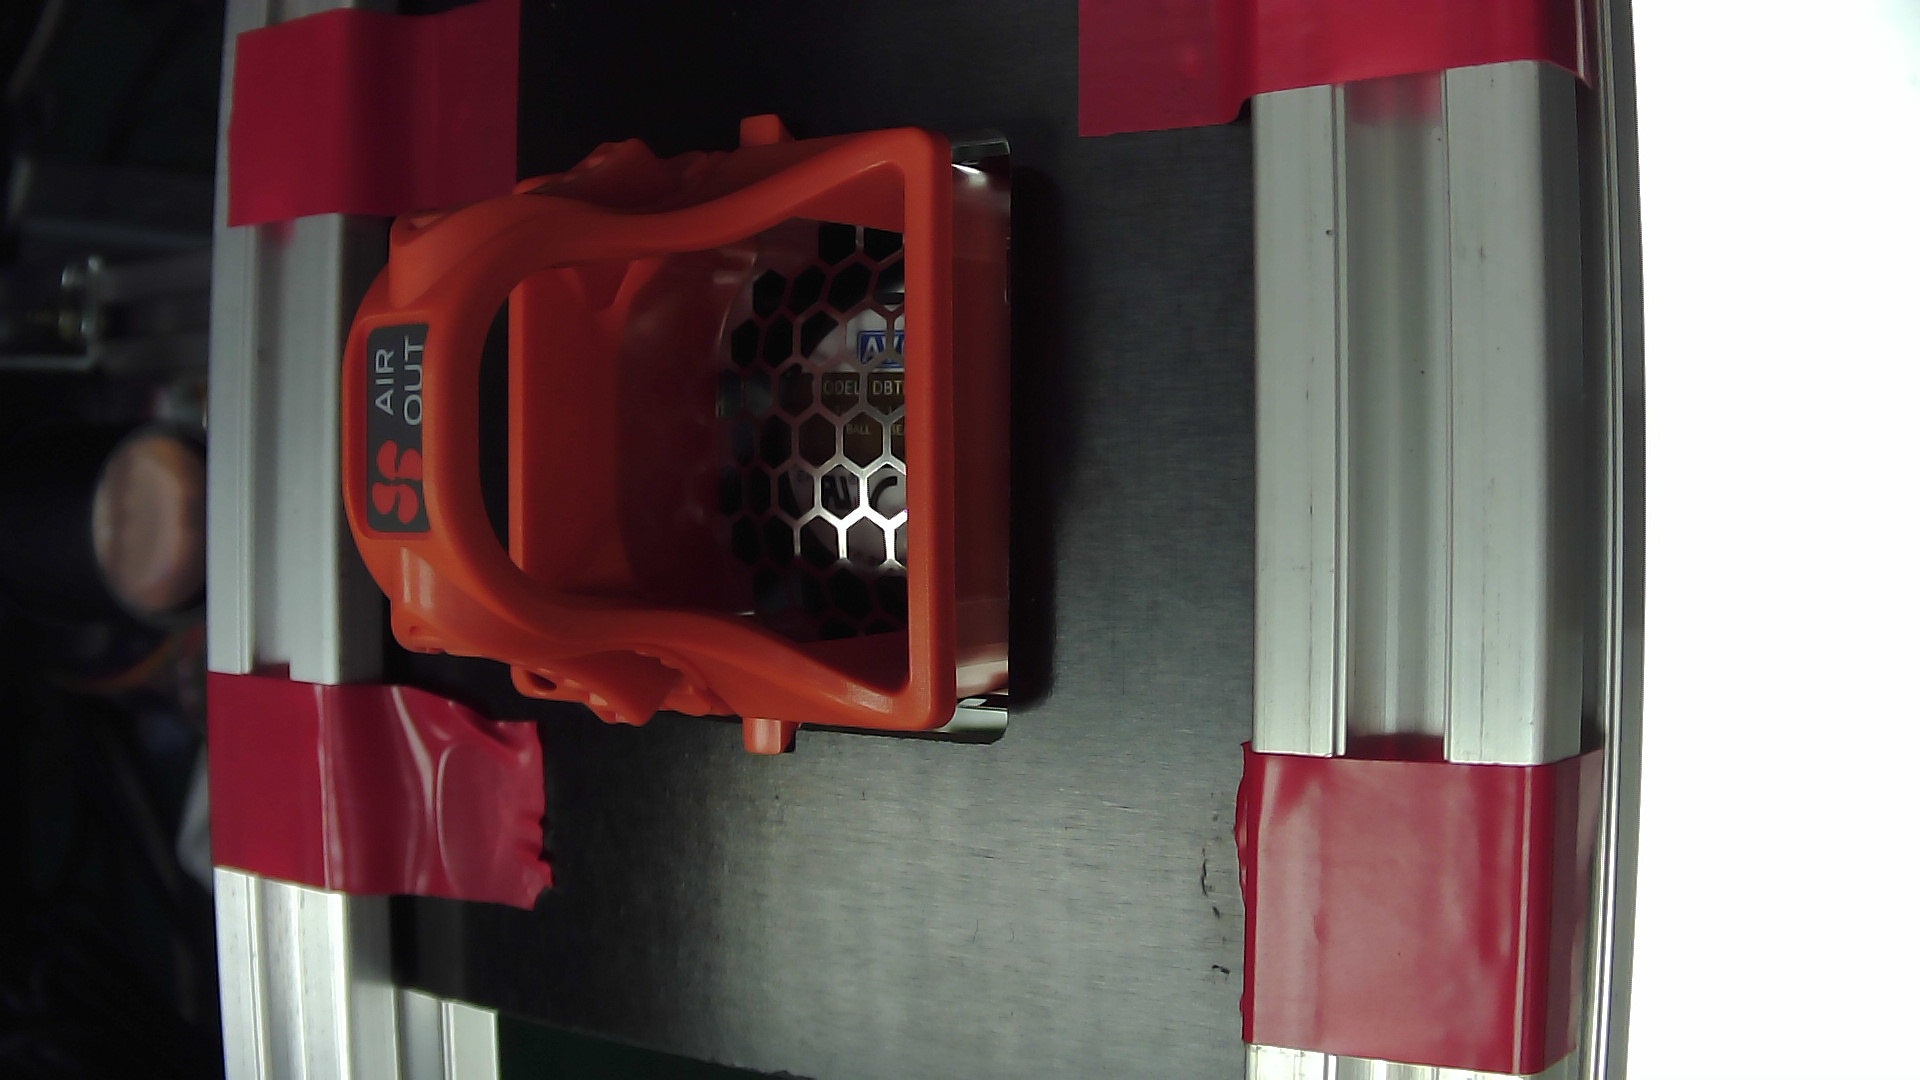1_0: (314, 91, 1060, 771)
